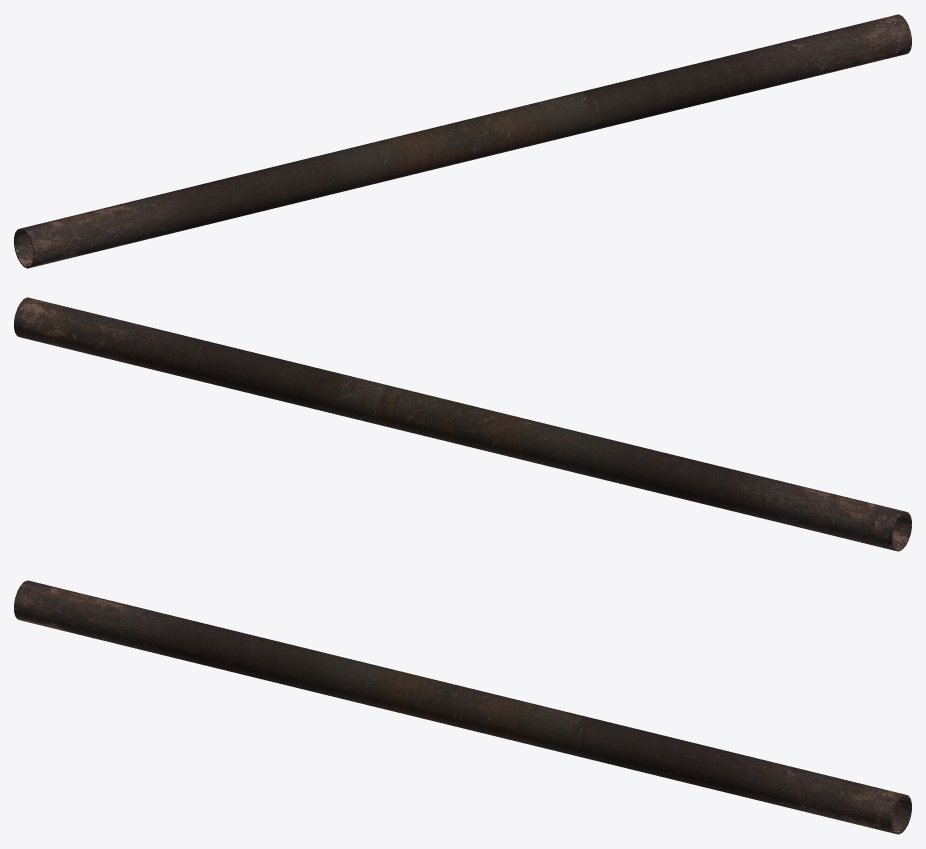
The model's file is MetalTube.FBX.
The picture shows the model from 3 angles, top to bottom: view 1: azimuth 30°, elevation 25°; view 2: azimuth 150°, elevation 25°; view 3: azimuth 330°, elevation 25°; orthographic projection.
Parts seen in each view (by area): view 1: Tube001; view 2: Tube001; view 3: Tube001.
Part boxes in pixels (x1,y1,x2,y2): Tube001: (14, 14, 911, 268); Tube001: (14, 297, 911, 551); Tube001: (14, 580, 911, 834).
Bounding box in the file's own units: 4.53 × 0.1837 × 0.1809.
